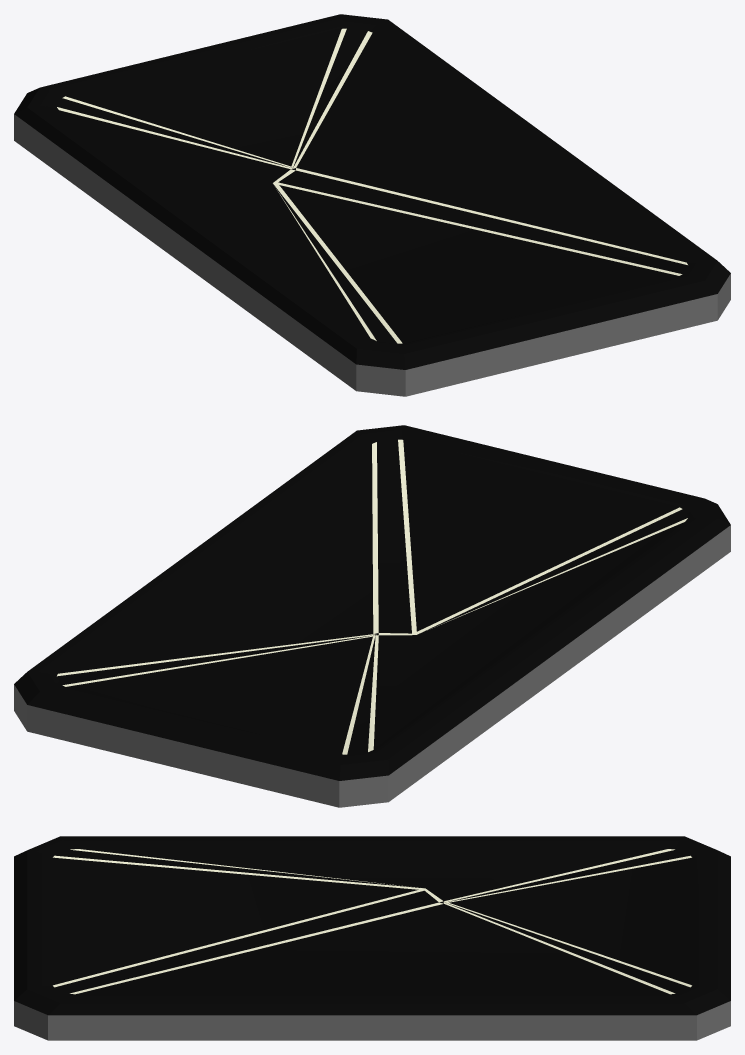
The model's file is Phone_shattered_v2.fbx.
3 views of the same model, one above another, from view 1: azimuth 30°, elevation 25°; view 2: azimuth 150°, elevation 25°; view 3: azimuth 270°, elevation 25° (orthographic). The views are drawn at different scales.
Parts seen in each view (by area): view 1: Object065, Object064, Object068, Object069, Object066, Box039, Object067, Object070; view 2: Object064, Object068, Object069, Object065, Object066, Object070, Object067, Box039; view 3: Object064, Object065, Object068, Object069, Object066, Object067, Box039, Object070.
Part boxes in pixels (bbox=[...]): Object065: bbox=[279, 185, 717, 396]; Object064: bbox=[296, 19, 716, 263]; Object068: bbox=[14, 106, 372, 390]; Object069: bbox=[40, 14, 343, 166]; Object066: bbox=[278, 168, 730, 320]; Box039: bbox=[273, 168, 405, 396]; Object067: bbox=[291, 14, 387, 168]; Object070: bbox=[14, 87, 292, 169]; Object064: bbox=[28, 430, 373, 674]; Object068: bbox=[372, 517, 730, 801]; Object069: bbox=[27, 636, 372, 807]; Object065: bbox=[401, 425, 704, 631]; Object066: bbox=[357, 425, 416, 633]; Object070: bbox=[339, 635, 388, 807]; Object067: bbox=[14, 634, 376, 731]; Box039: bbox=[373, 498, 730, 635]; Object064: bbox=[48, 904, 696, 1040]; Object065: bbox=[14, 850, 418, 1000]; Object068: bbox=[60, 836, 684, 900]; Object069: bbox=[449, 850, 730, 1000]; Object066: bbox=[14, 890, 443, 1040]; Object067: bbox=[443, 902, 730, 1040]; Box039: bbox=[28, 836, 443, 903]; Object070: bbox=[444, 836, 716, 902].
Bounding box in the file's own units: 28.99 × 2.67 × 50.7.
